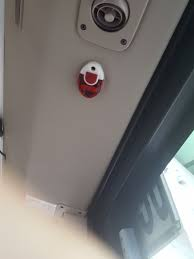bell: (75, 60, 108, 103)
